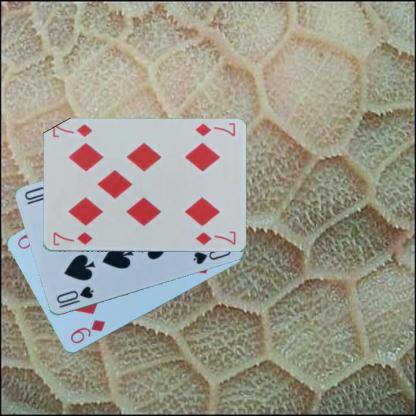10s: (54, 284, 95, 310)
7d: (50, 229, 94, 247), (192, 121, 236, 138)
9d: (68, 317, 106, 346)
